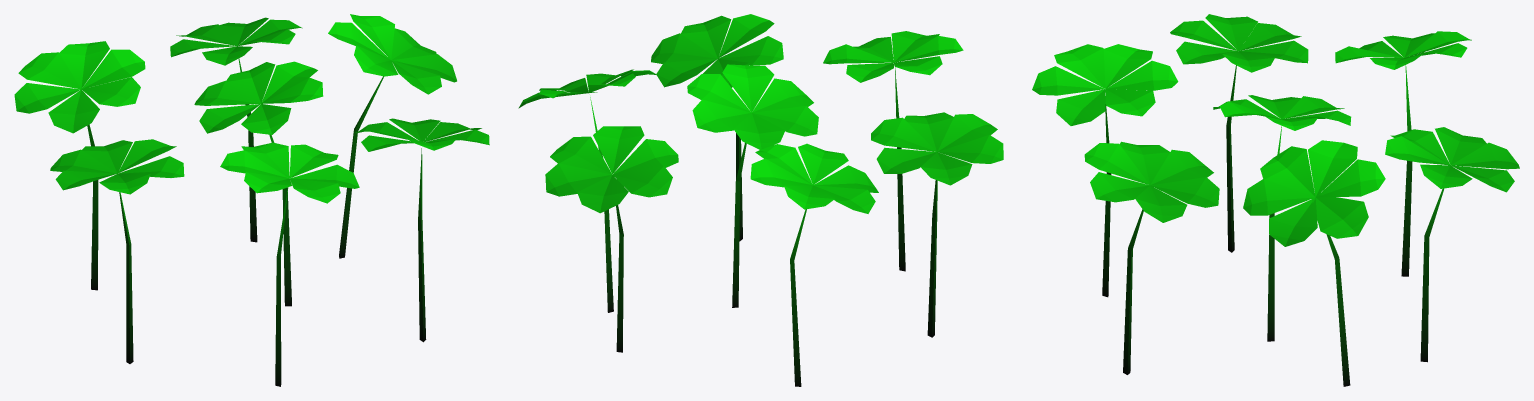
File: SM_Flower_03.fbx
3 views of the same model, side by side, from view 1: azimuth 30°, elevation 25°; view 2: azimuth 150°, elevation 25°; view 3: azimuth 270°, elevation 25° (orthographic). The views are drawn at different scales.
Visible parts, largest first — view 1: SM_Flower_03; view 2: SM_Flower_03; view 3: SM_Flower_03.
Boxes of the visible parts, x1,y1,x2,y2 form: SM_Flower_03: (14, 14, 489, 386); SM_Flower_03: (518, 14, 1003, 386); SM_Flower_03: (1032, 14, 1519, 386).
Size of the model in its own units: 106 by 54.81 by 102.
